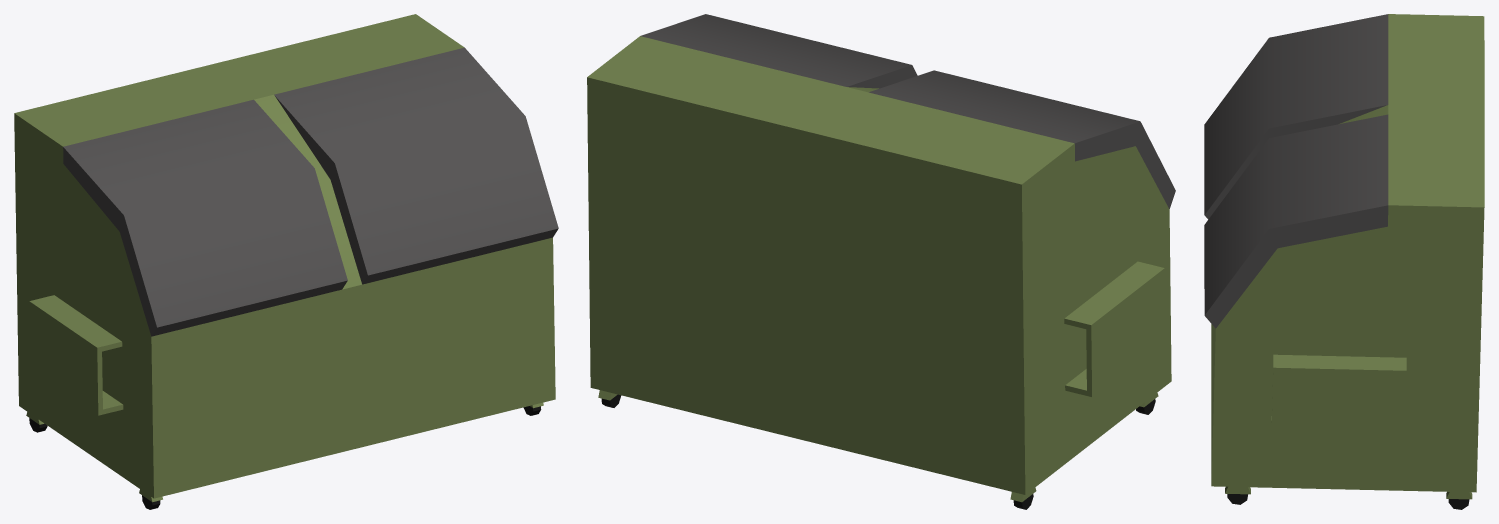
Rendered from Dumpster.fbx.
3 renders of one model, left to right at view 1: azimuth 30°, elevation 25°; view 2: azimuth 150°, elevation 25°; view 3: azimuth 270°, elevation 25°, orthographic. The views are drawn at different scales.
Visible parts, largest first — view 1: Dumpster; view 2: Dumpster; view 3: Dumpster.
Part boxes in pixels (x1,y1,x2,y2): Dumpster: (14, 14, 558, 509); Dumpster: (587, 14, 1175, 509); Dumpster: (1204, 14, 1484, 509).
Bounding box in the file's own units: 202 × 133 × 110.
